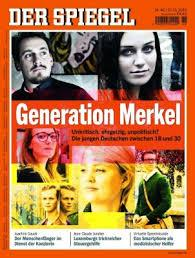paper: (1, 0, 195, 258)
